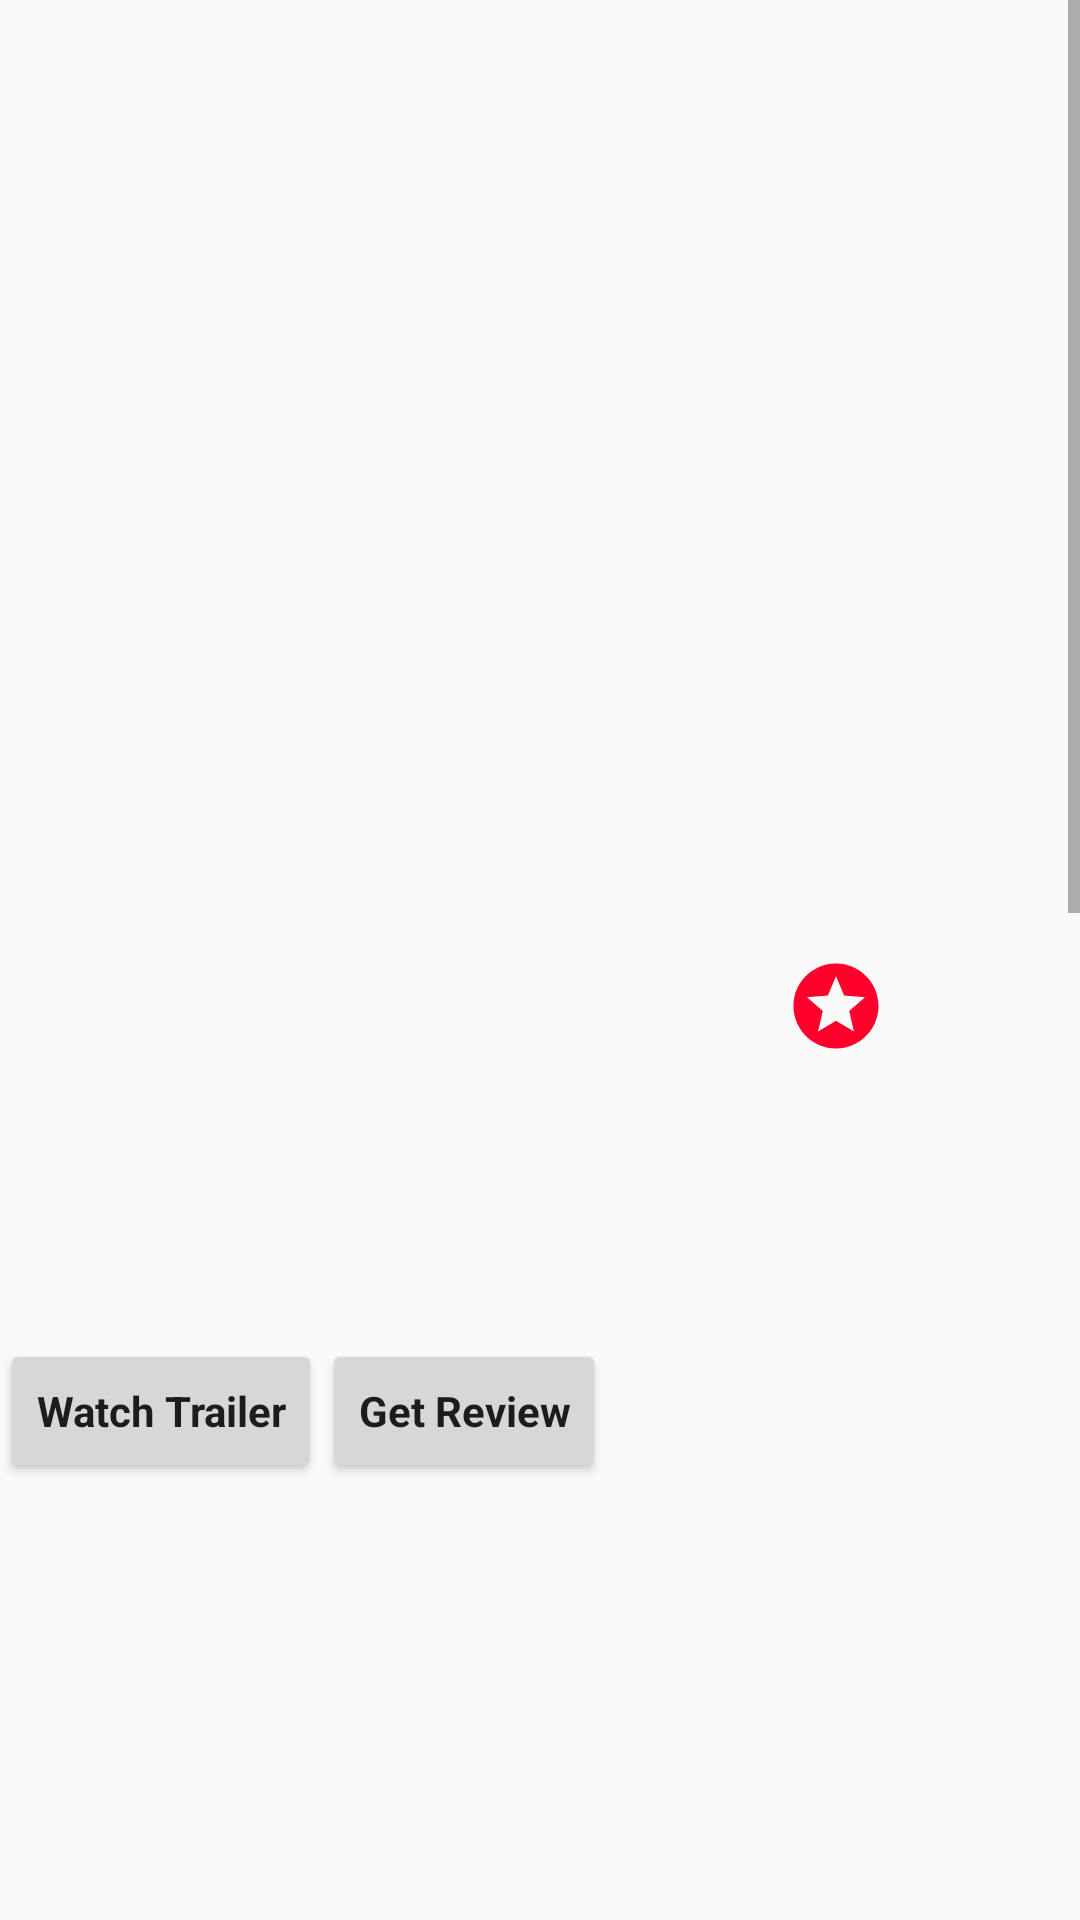

Named icons in this screenshot (1080 x 1920) and their bounding boxes, (x1, y1, x2, y2):
stars: (793, 963, 879, 1049)
